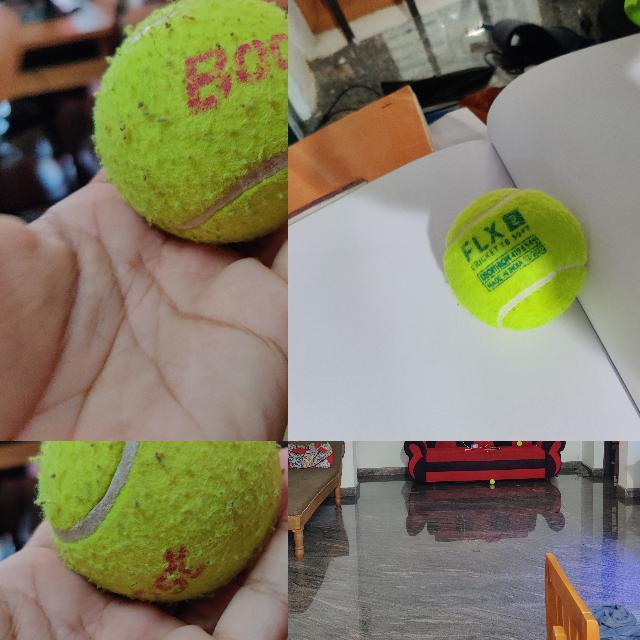tennis-ball: (93, 0, 287, 243), (35, 441, 284, 602), (441, 186, 589, 330), (516, 441, 522, 446), (490, 478, 494, 484)
